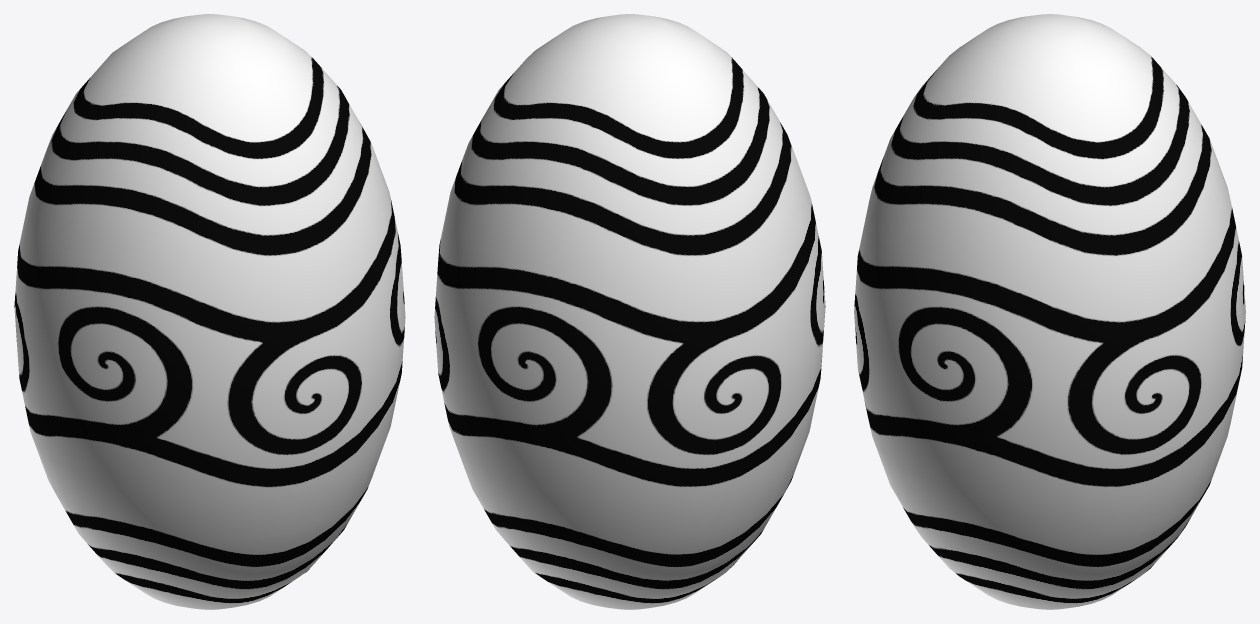
File: phitop.glb
3 views of the same model, side by side, from view 1: azimuth 30°, elevation 25°; view 2: azimuth 150°, elevation 25°; view 3: azimuth 270°, elevation 25° (orthographic).
Visible parts, largest first — view 1: PhiTop; view 2: PhiTop; view 3: PhiTop.
Boxes of the visible parts, <box> form: PhiTop: <box>14,14,405,609</box>; PhiTop: <box>434,14,825,609</box>; PhiTop: <box>854,14,1245,609</box>.
Bounding box in the file's own units: 2 × 3.24 × 2.
1 material, 1 textured.
